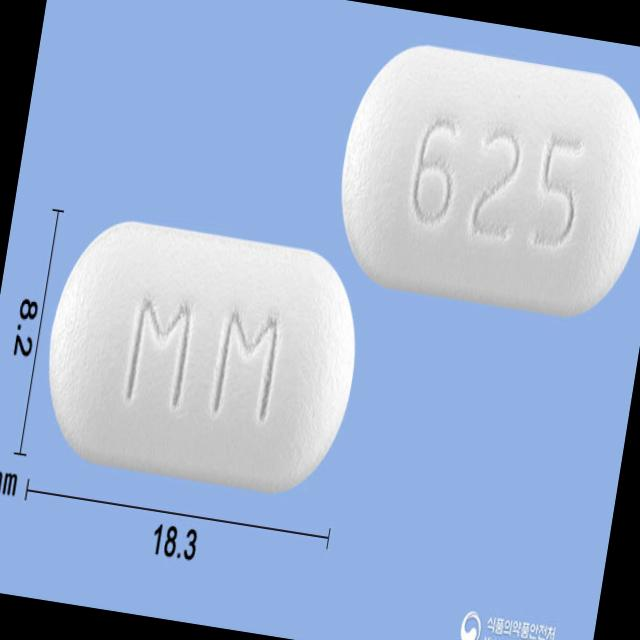Myungmoon Amoclan Tab: (32, 210, 373, 503), (327, 34, 640, 322)
